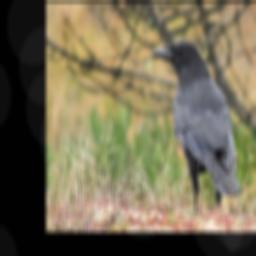Crow: (150, 39, 242, 218)
